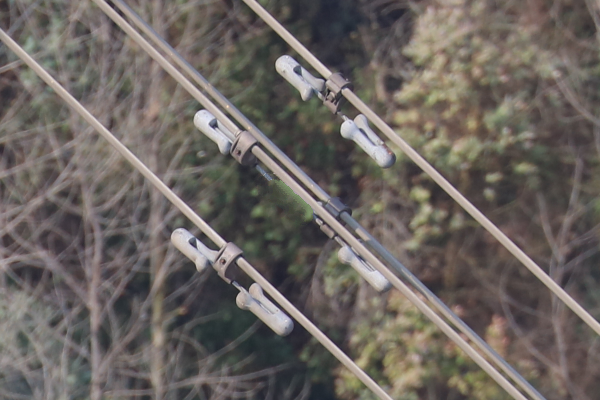damper: (274, 47, 399, 170), (168, 225, 297, 339)
damper_defect: (307, 194, 394, 297), (189, 103, 271, 183)
